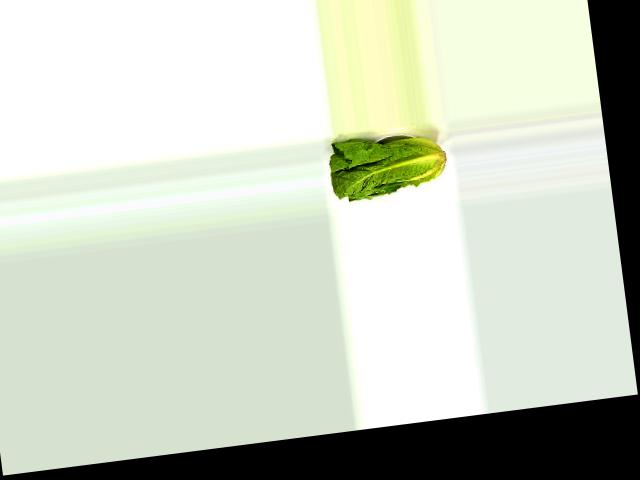lettuce: (326, 126, 451, 205)
